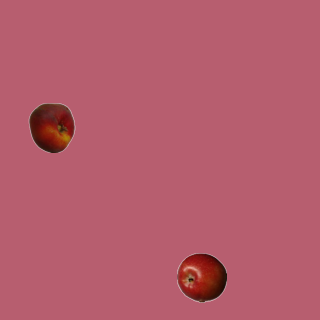Apple Braeburn: (176, 252, 226, 302)
Nectarine Flat: (26, 102, 76, 152)
